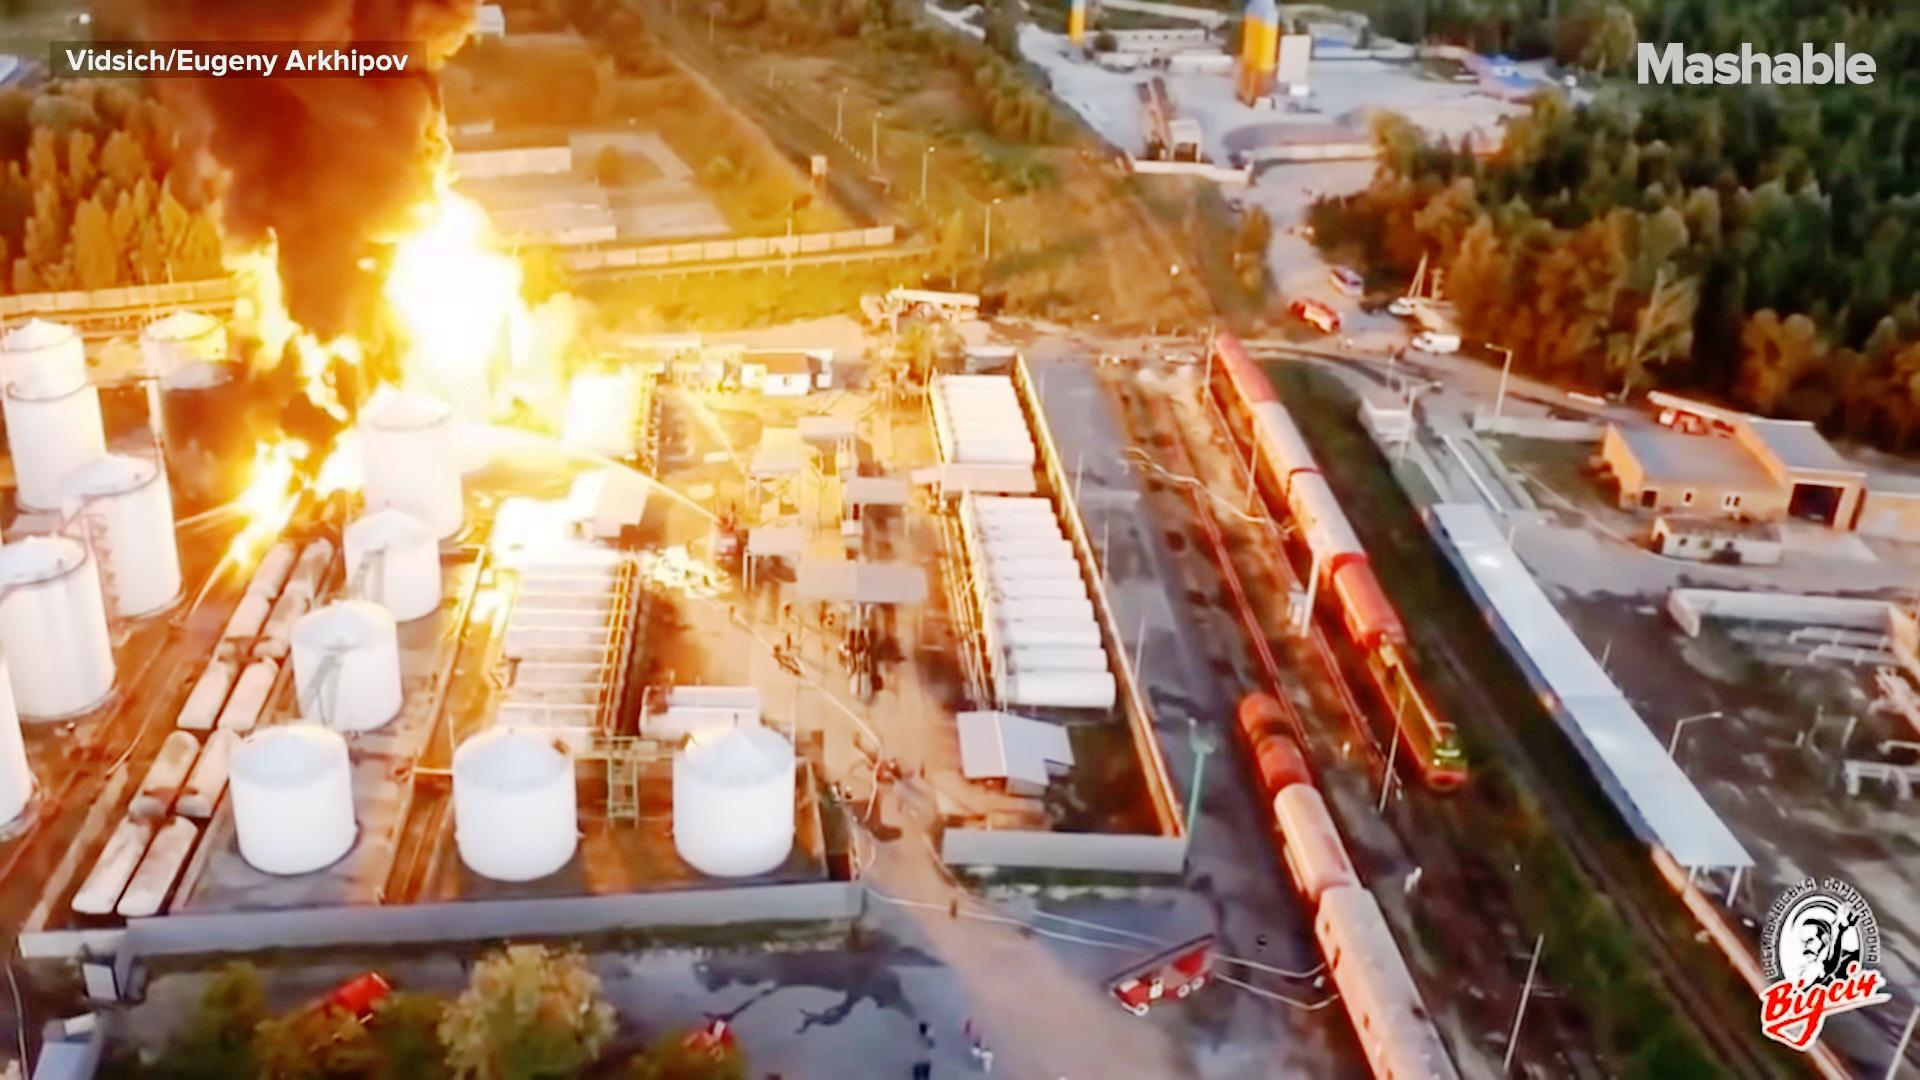fire: (357, 183, 578, 405), (225, 78, 404, 207), (228, 243, 322, 367), (231, 430, 301, 545)
